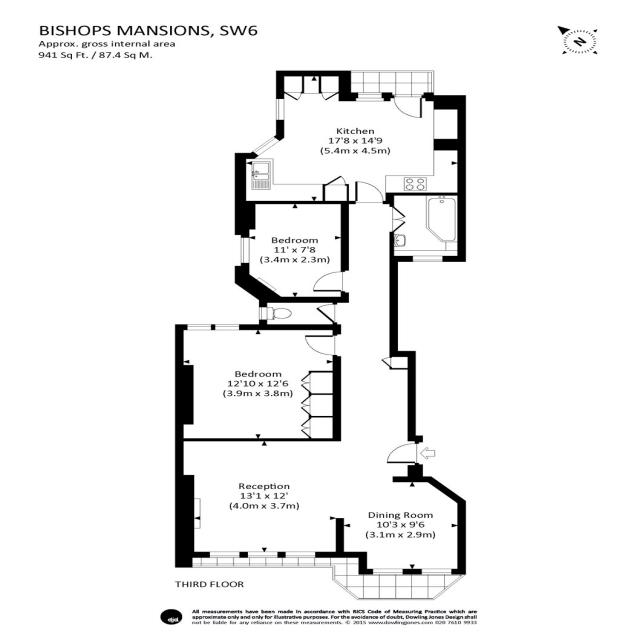DOOR: (386, 441, 423, 466), (313, 269, 349, 294), (391, 92, 425, 118), (304, 334, 341, 357), (354, 181, 385, 204), (315, 303, 337, 323)
ROOM: (174, 438, 467, 575), (234, 70, 466, 204), (175, 324, 341, 442), (234, 201, 349, 303)
WINDOW: (251, 136, 281, 157), (240, 236, 251, 264), (355, 92, 385, 102), (411, 255, 444, 263), (275, 98, 285, 121), (209, 551, 240, 558), (247, 551, 278, 558), (285, 551, 316, 558), (372, 568, 403, 575), (421, 569, 452, 575), (187, 324, 212, 331), (215, 324, 240, 330), (259, 307, 268, 320)
